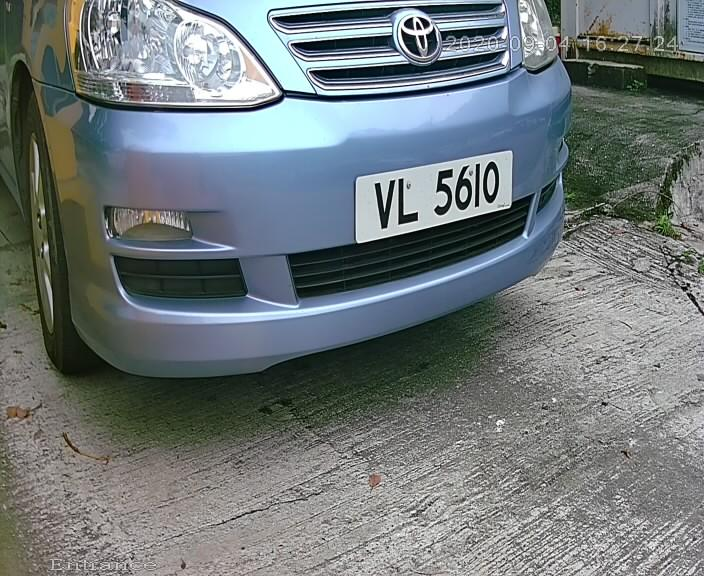License Plate: (339, 140, 526, 256)
